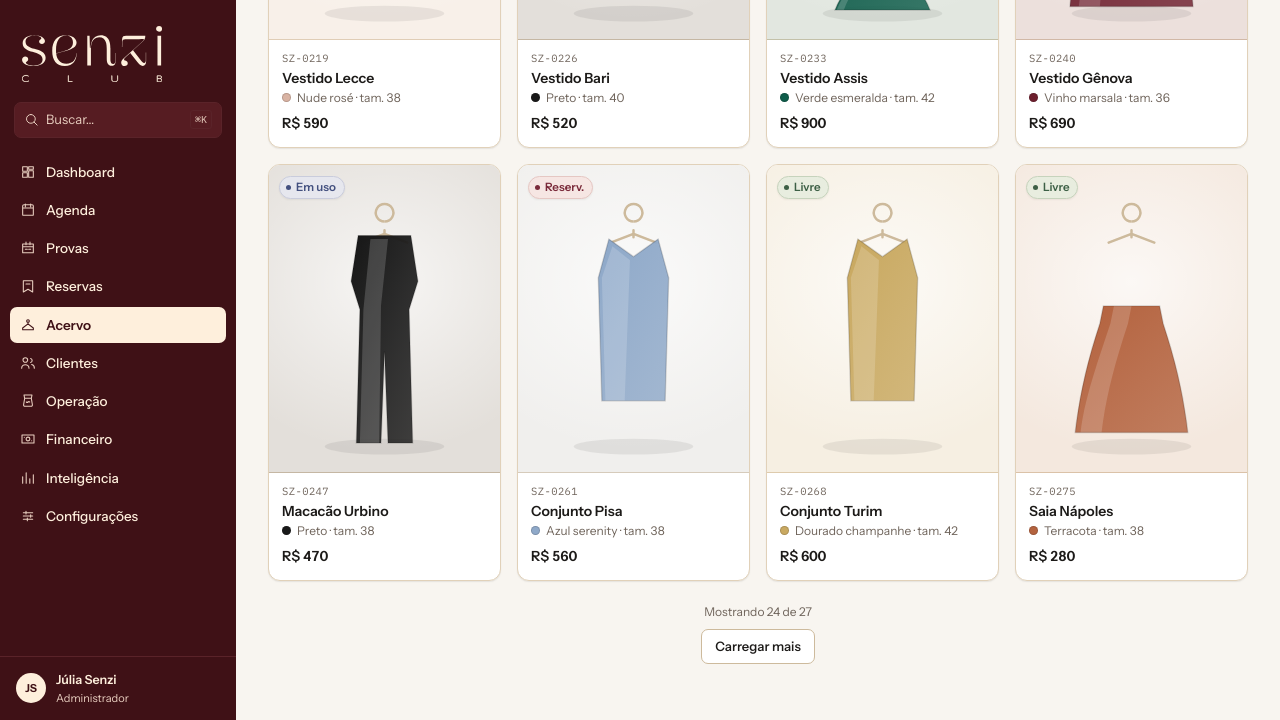
it: Acervo — lista › cabeçalho, 24 cards na primeira página e "Carregar mais" traz o resto
(page scrolled)
Click the button "Carregar mais" at point(758, 647), box [701, 629, 815, 664]
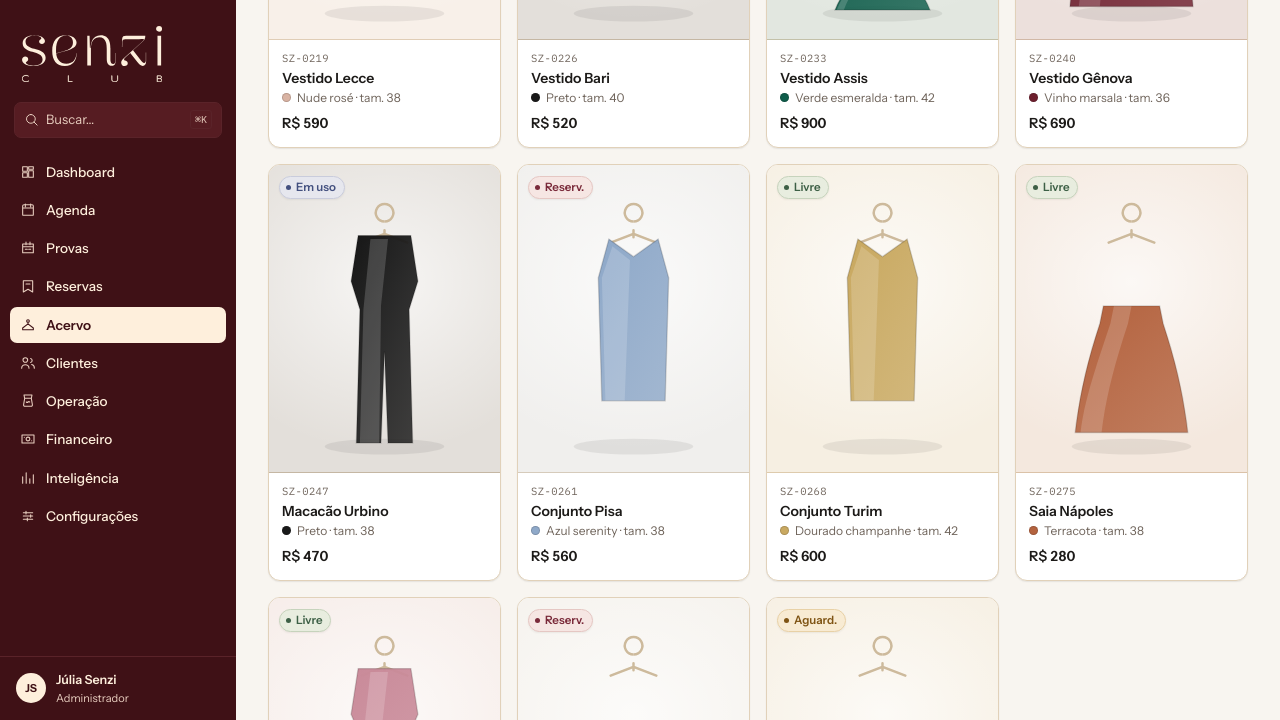
expect the button "Carregar mais" is gone: met
